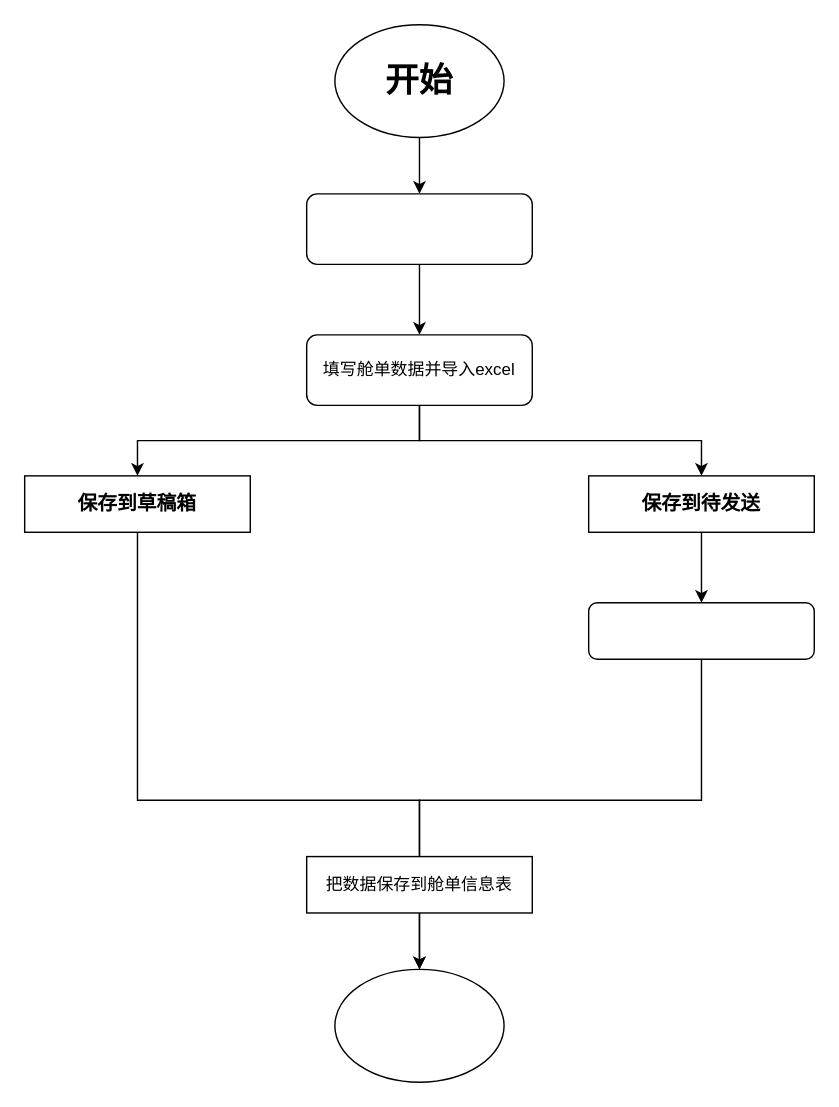
The diagram is 839 pixels wide and 1107 high, and some of its shapes have lost their labels. Each missing label, with the centre of its shape:
下载excel模板: point (418, 228)
数据校验: point (700, 630)
结束: point (418, 1025)
